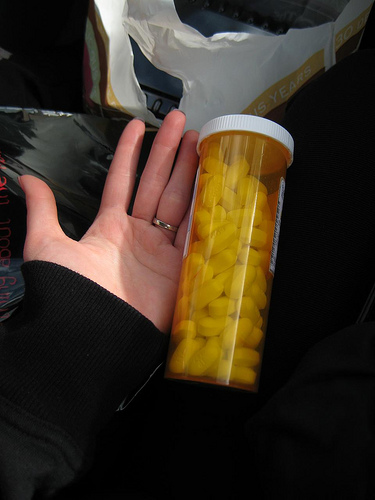pill bottle: (173, 117, 294, 393)
